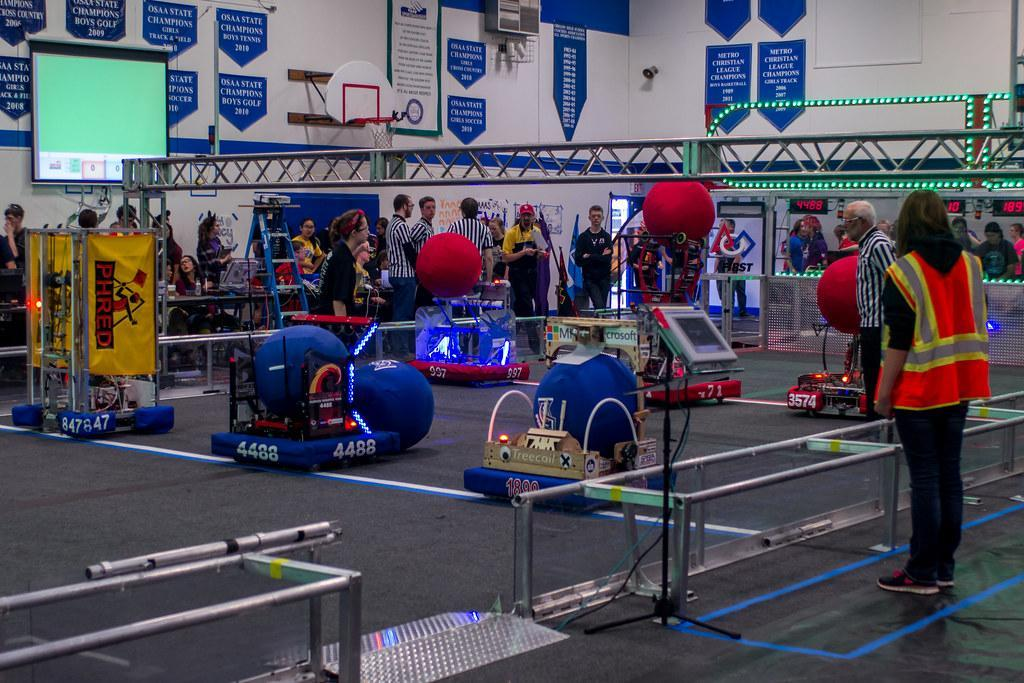robot: (6, 217, 182, 447), (460, 347, 684, 513), (202, 304, 407, 477), (616, 214, 750, 410), (783, 249, 916, 422), (406, 284, 535, 393)
